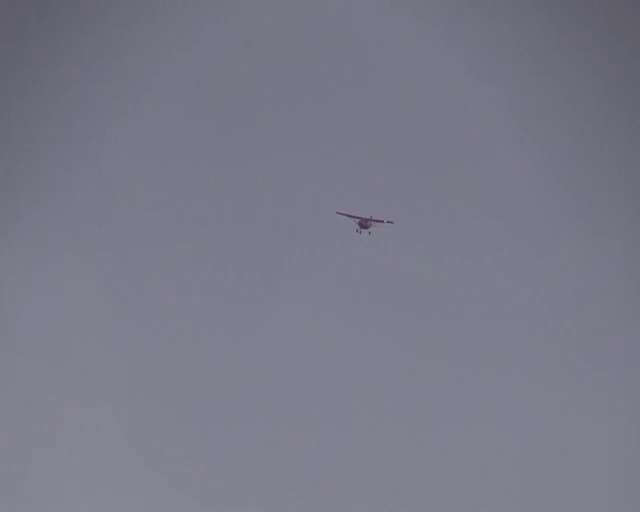AIRPLANE: (336, 211, 394, 235)
